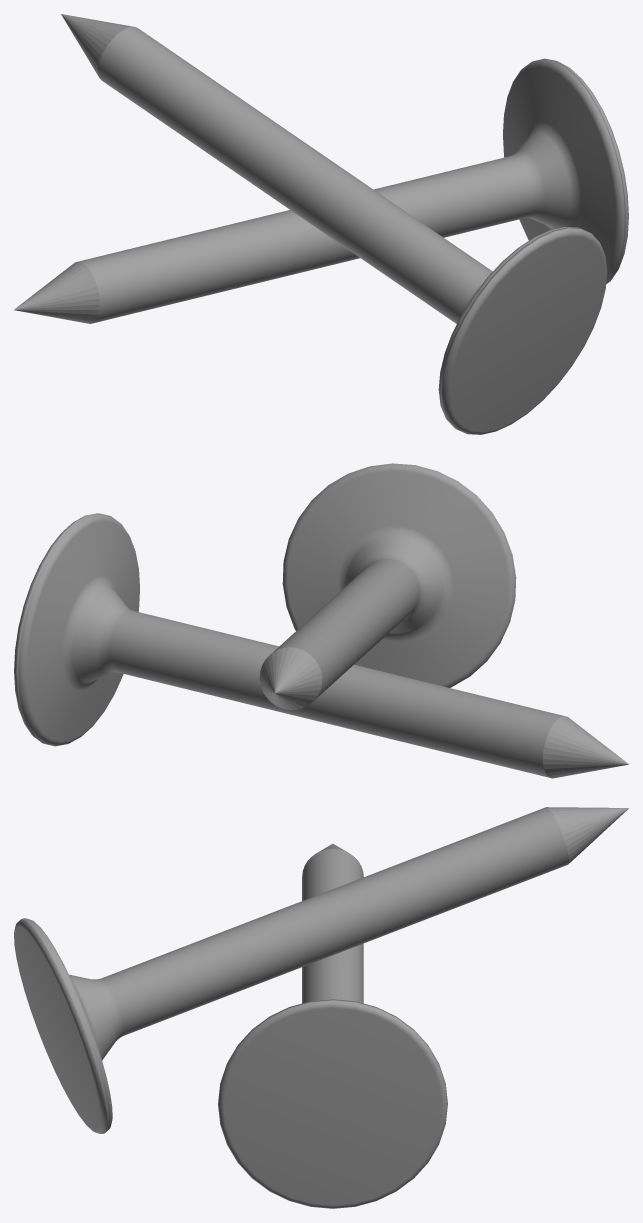
The model's file is nails.fbx.
3 views of the same model, one above another, from view 1: azimuth 30°, elevation 25°; view 2: azimuth 150°, elevation 25°; view 3: azimuth 270°, elevation 25° (orthographic). The views are drawn at different scales.
Parts seen in each view (by area): view 1: Circle.002, Circle, Circle.001, Circle.003; view 2: Circle, Circle.002, Circle.001, Circle.003; view 3: Circle, Circle.002, Circle.003.
Boxes of the visible parts, <box> form: Circle.002: <box>98,26,607,434</box>; Circle: <box>79,58,628,323</box>; Circle.001: <box>14,261,99,323</box>; Circle.003: <box>61,14,134,76</box>; Circle: <box>14,513,564,777</box>; Circle.002: <box>272,463,516,699</box>; Circle.001: <box>543,716,628,778</box>; Circle.003: <box>259,647,322,710</box>; Circle: <box>218,849,447,1208</box>; Circle.002: <box>14,807,569,1133</box>; Circle.003: <box>546,807,628,863</box>.
Size of the model in its own units: 1032 by 455 by 1020.
Materials: 2 (2 with a texture image).
